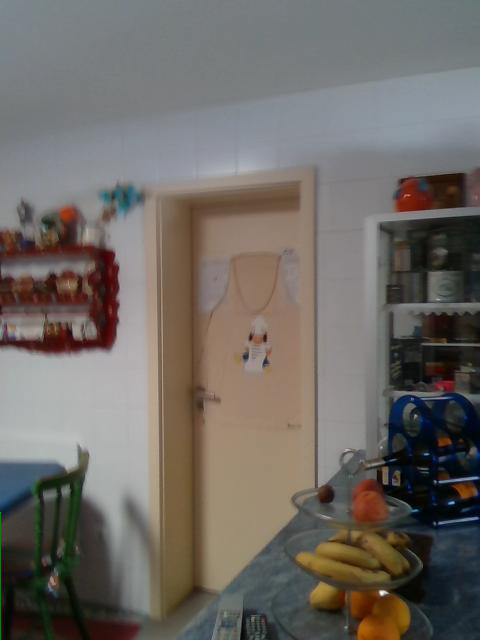door: (193, 196, 319, 591)
